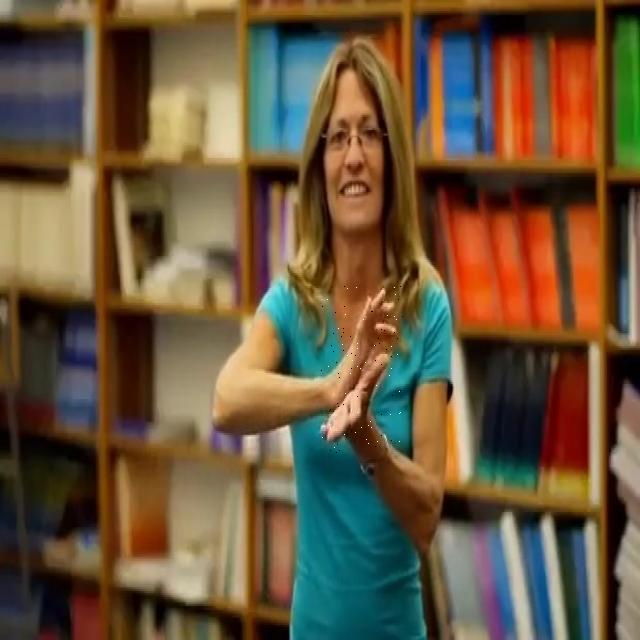cheese: (320, 285, 404, 458)
